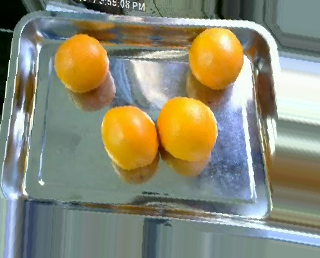Orange: (158, 94, 218, 162), (101, 105, 160, 170), (188, 26, 244, 89), (54, 33, 110, 92)
